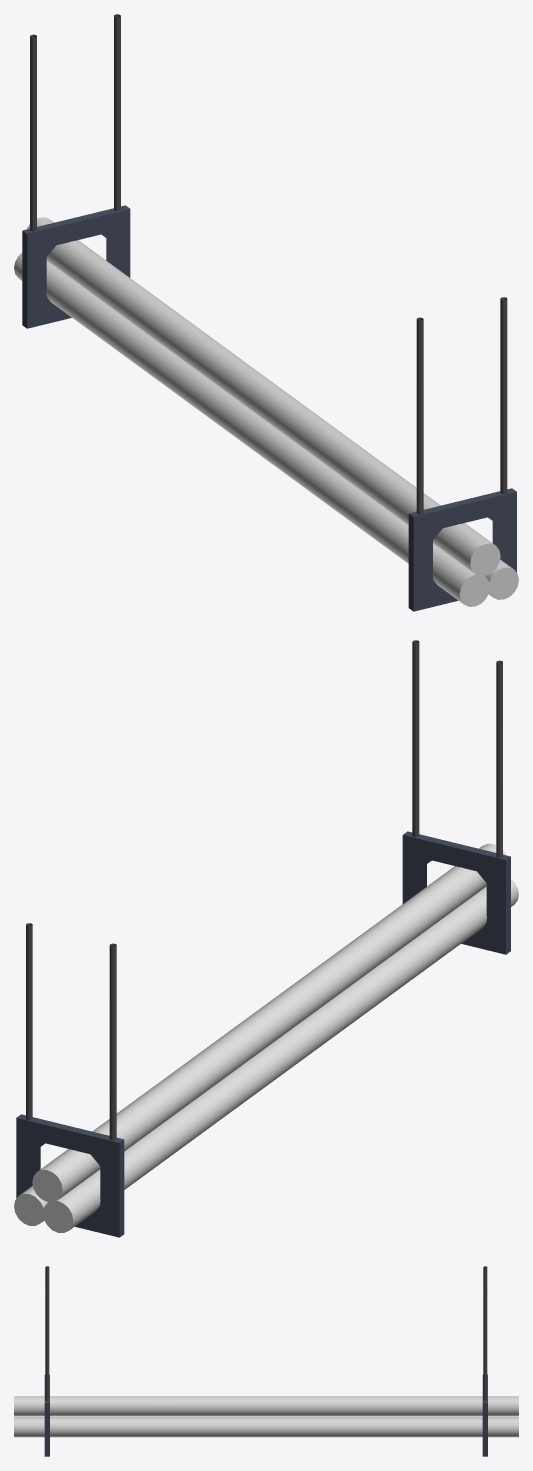
The model's file is SM_lamp_stacked.fbx.
3 renders of one model, top to bottom at view 1: azimuth 30°, elevation 25°; view 2: azimuth 150°, elevation 25°; view 3: azimuth 270°, elevation 25°, orthographic. The views are drawn at different scales.
Parts seen in each view (by area): view 1: lamp_stacked; view 2: lamp_stacked; view 3: lamp_stacked.
Boxes of the visible parts, x1,y1,x2,y2 form: lamp_stacked: [14, 14, 518, 611]; lamp_stacked: [14, 640, 518, 1237]; lamp_stacked: [14, 1266, 518, 1456].
Bounding box in the file's own units: 15.93 × 42.54 × 119.
